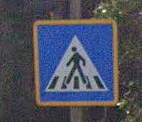trecere_pietoni: (31, 18, 120, 107)
